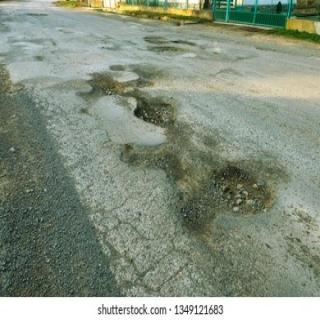pothole: (118, 96, 276, 237), (78, 75, 158, 105), (147, 46, 184, 52)
